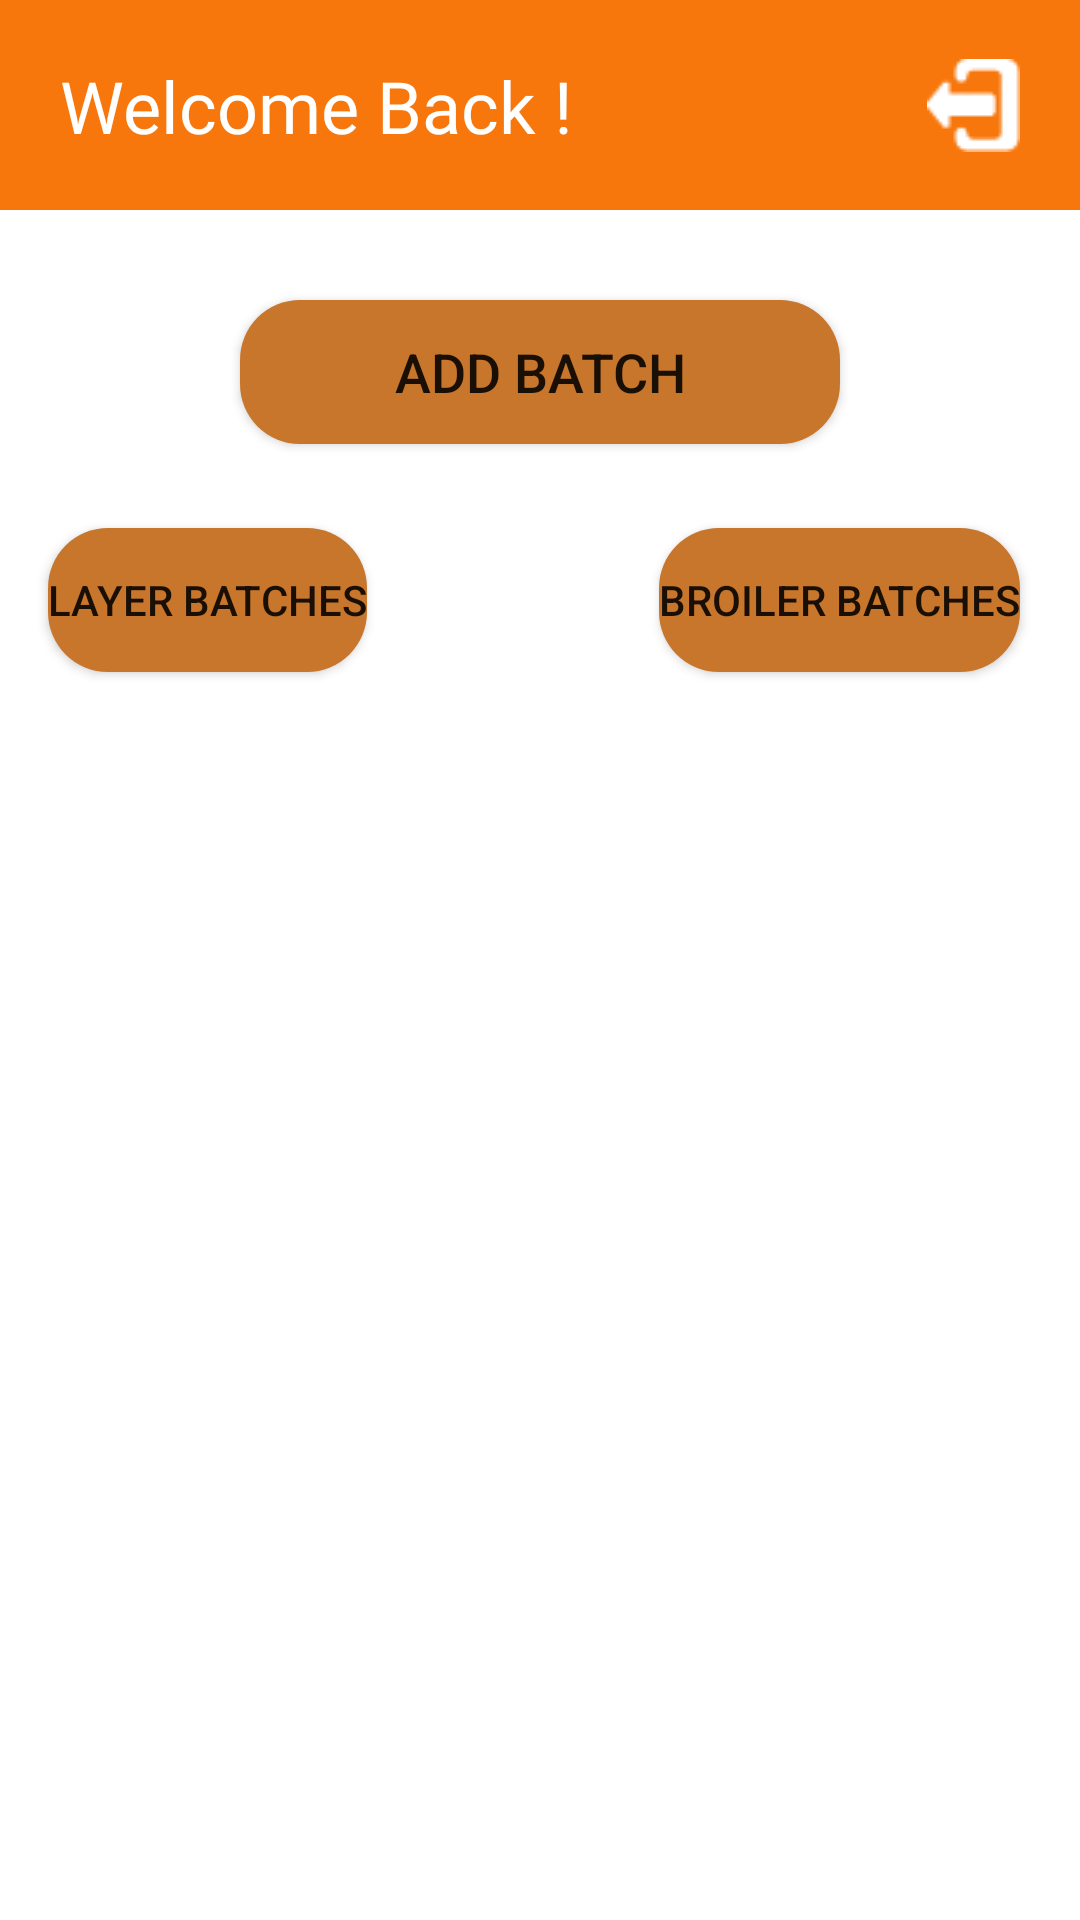

Named icons in this screenshot (1080w x 1920h) and their bounding boxes, {"left": x1, "top": y1, "right": x2, "bottom": y2}:
exiticon: {"left": 927, "top": 59, "right": 1020, "bottom": 152}
